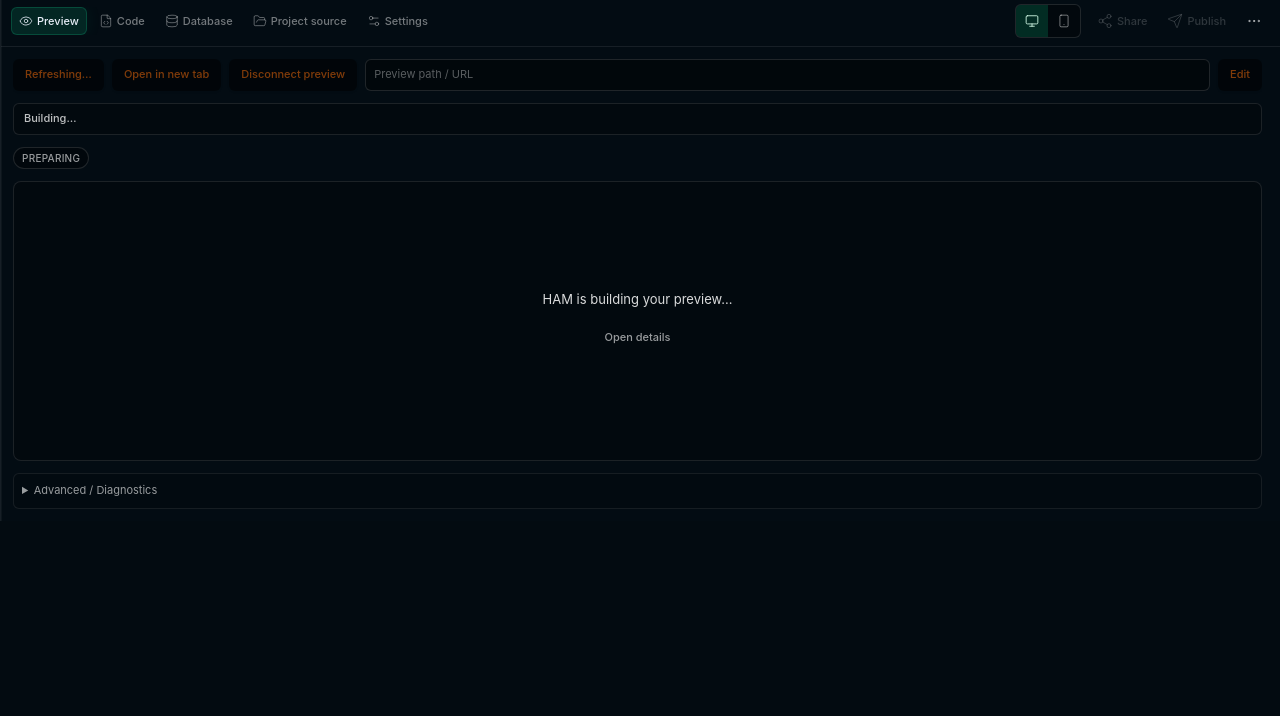
Test: WorkspaceWorkbench › Preview renders compact builder worker statuses
Click the heading "Advanced / Diagnostics": point(95, 490) x1=34 y1=483 x2=157 y2=497
(page scrolled)
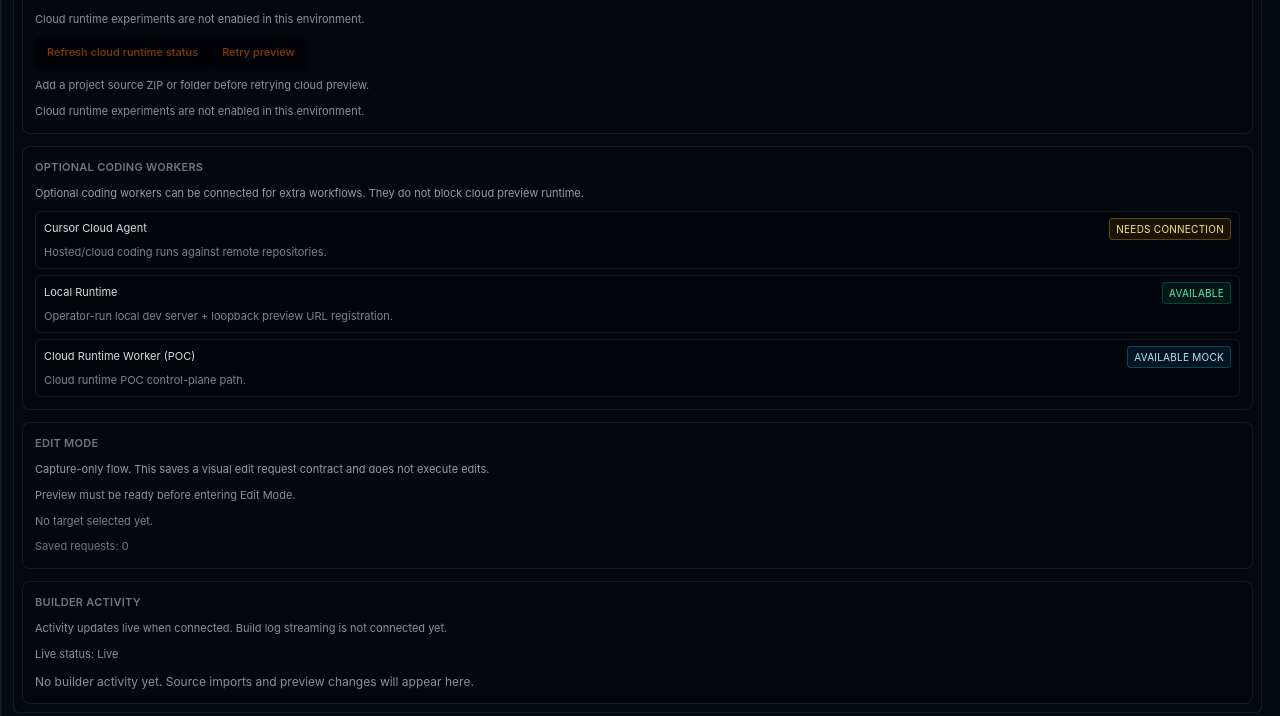
Now the list with test id "hww-worker-capability-list" is shown, box x1=35 y1=210 x2=1240 y2=397
Now the number of list items with test id "hww-worker-capability-item" is 3, box x1=35 y1=210 x2=1240 y2=269; x1=35 y1=275 x2=1240 y2=333; x1=35 y1=339 x2=1240 y2=397
Now the text "Cursor Cloud Agent" is shown, box x1=44 y1=220 x2=147 y2=238
